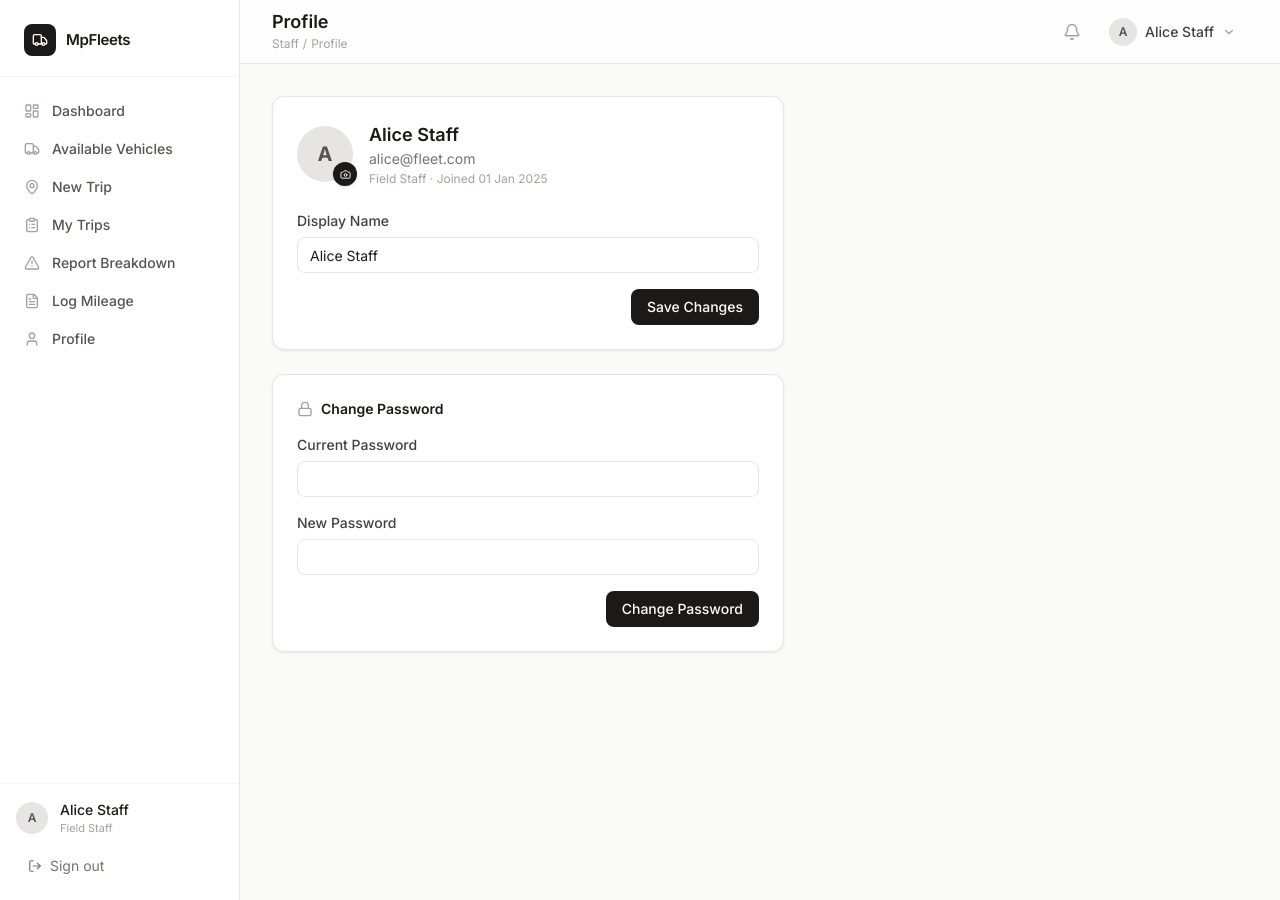
Test: StaffProfilePage — profile picture upload › toggles the picture upload form when the camera button is clicked
The width and height of the screenshot is (1280, 900).
Expected: the text "alice@fleet.com" is shown, x1=369 y1=150 x2=476 y2=167
Expected: the text "Update Profile Picture" is not shown
Click the button titled "Change photo" at coordinates (345, 174), box x1=333 y1=162 x2=357 y2=186
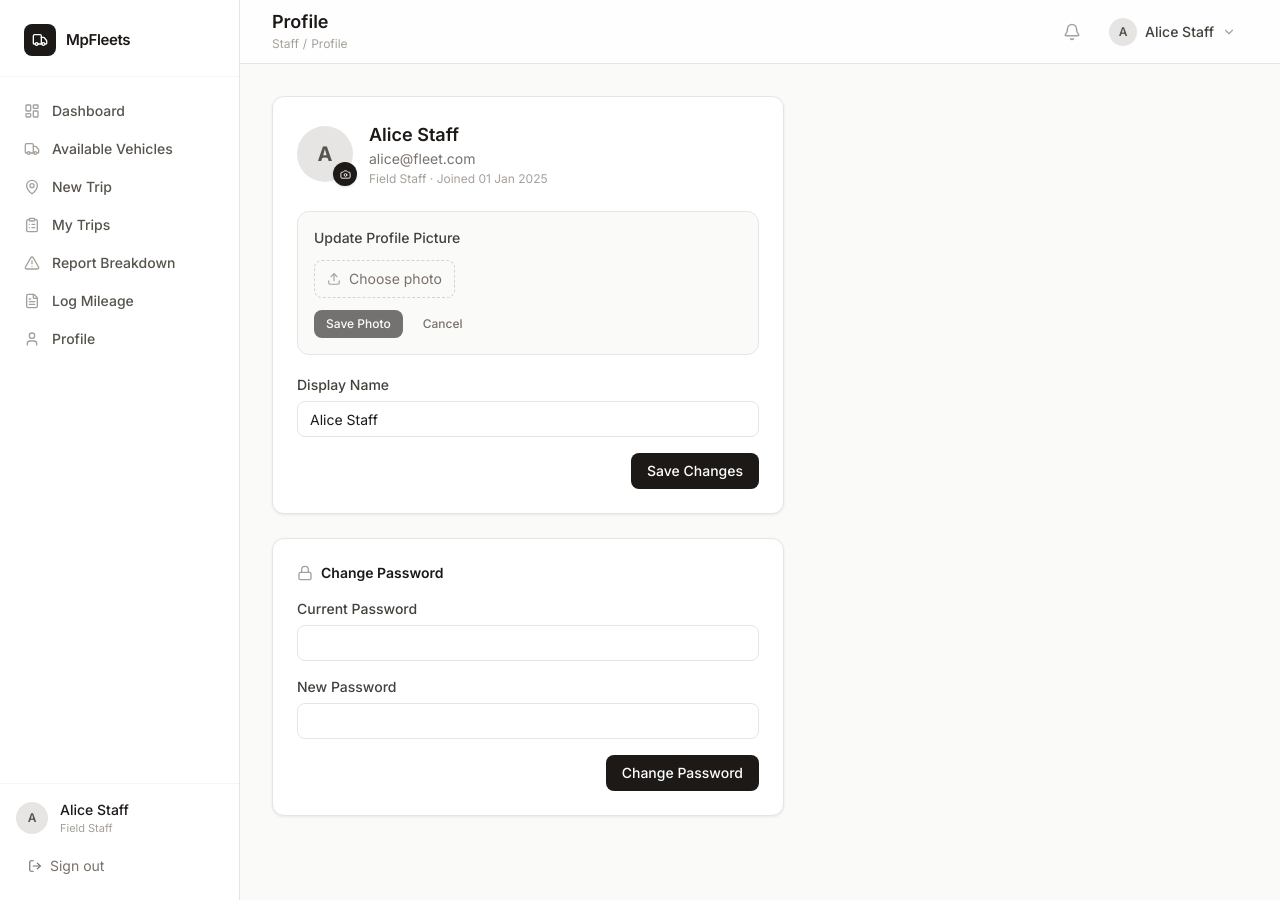
Expected: the text "Update Profile Picture" is shown, x1=314 y1=229 x2=460 y2=246
Click the button titled "Change photo" at coordinates (345, 174), box x1=333 y1=162 x2=357 y2=186
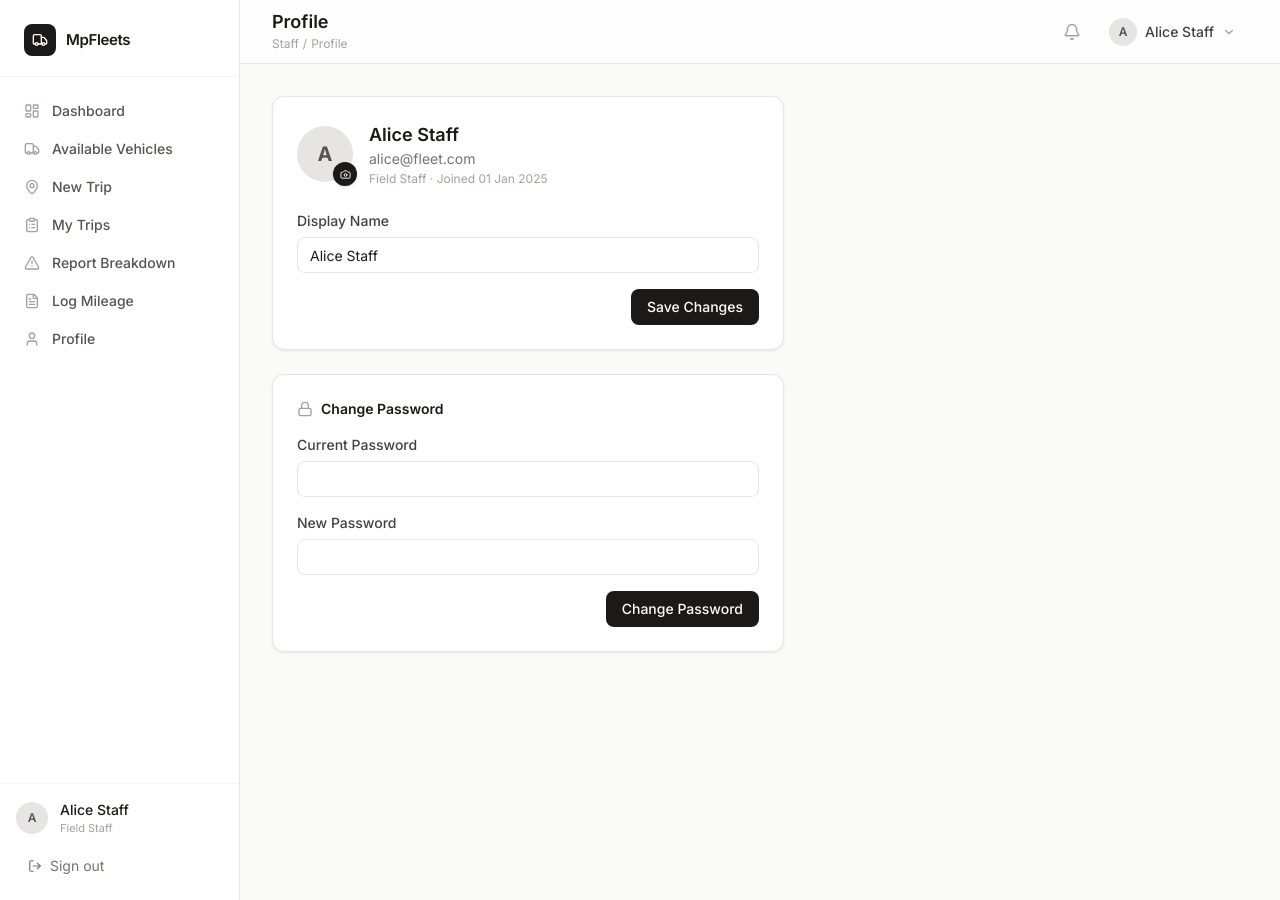
Expected: the text "Update Profile Picture" is gone
